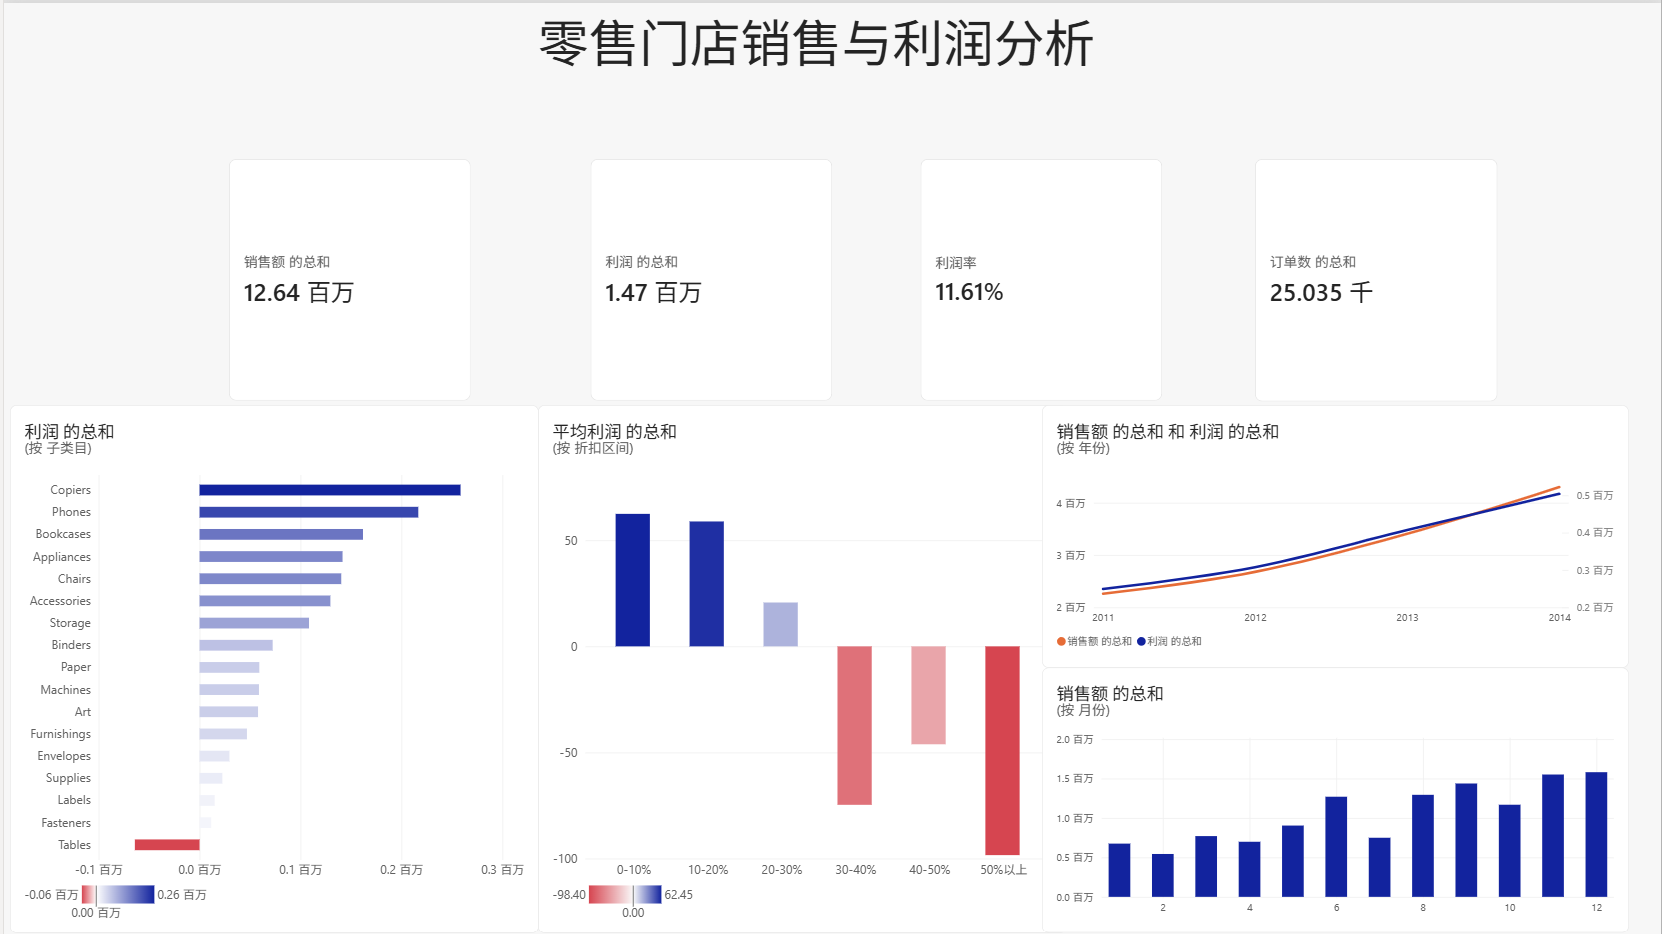

Layout of this report page (visuals, bound fields, positions):
{"tool":"powerbi","page":{"name":"第 1 页","canvas":[1920,1080],"ordinal":0},"visuals":[{"type":"cardVisual","fields":{"Data":["Sum(年度趋势.销售额)"]},"box":[261.2,180.8,280,280],"z":0},{"type":"cardVisual","fields":{"Data":["Sum(年度趋势.利润)"]},"box":[679.8,180.8,280,280],"z":1},{"type":"cardVisual","fields":{"Data":["年度趋势.利润率"]},"box":[1061.6,180.8,280,280],"z":2},{"type":"cardVisual","fields":{"Data":["Sum(订单数.订单数)"]},"box":[1450.1,180.8,281.3,281.3],"z":3},{"type":"clusteredColumnChart","fields":{"Category":["折扣利润.折扣区间"],"Y":["Sum(折扣利润.平均利润)"]},"box":[619.5,465.5,612.8,612.8],"z":4},{"type":"lineChart","fields":{"Category":["年度趋势.年份"],"Y":["Sum(年度趋势.销售额)"],"Y2":["Sum(年度趋势.利润)"]},"box":[1202.2,465.5,679.8,304.7],"z":5},{"type":"clusteredBarChart","fields":{"Category":["子类目利润.子类目"],"Y":["Sum(子类目利润.利润)"]},"box":[6.7,465.5,612.8,612.8],"z":6},{"type":"clusteredColumnChart","fields":{"Category":["月度季节.月份"],"Y":["Sum(月度季节.销售额)"]},"box":[1202.2,770.2,679.8,308.1],"z":7},{"type":"textbox","box":[619.5,0,746.8,254.5],"z":8}]}

Visuals, with their boxes in screenshot pixels (x1, y1, x2, y2), scaled from the page's 1920x1080 canvas onto the 1662x934 screenshot:
cardVisual - Sum(年度趋势.销售额): x1=226, y1=156, x2=468, y2=399
cardVisual - Sum(年度趋势.利润): x1=588, y1=156, x2=831, y2=399
cardVisual - 年度趋势.利润率: x1=919, y1=156, x2=1161, y2=399
cardVisual - Sum(订单数.订单数): x1=1255, y1=156, x2=1499, y2=400
clusteredColumnChart - 折扣利润.折扣区间 x Sum(折扣利润.平均利润): x1=536, y1=403, x2=1067, y2=933
lineChart - 年度趋势.年份 x Sum(年度趋势.销售额): x1=1041, y1=403, x2=1629, y2=666
clusteredBarChart - 子类目利润.子类目 x Sum(子类目利润.利润): x1=6, y1=403, x2=536, y2=933
clusteredColumnChart - 月度季节.月份 x Sum(月度季节.销售额): x1=1041, y1=666, x2=1629, y2=933
textbox: x1=536, y1=0, x2=1183, y2=220
